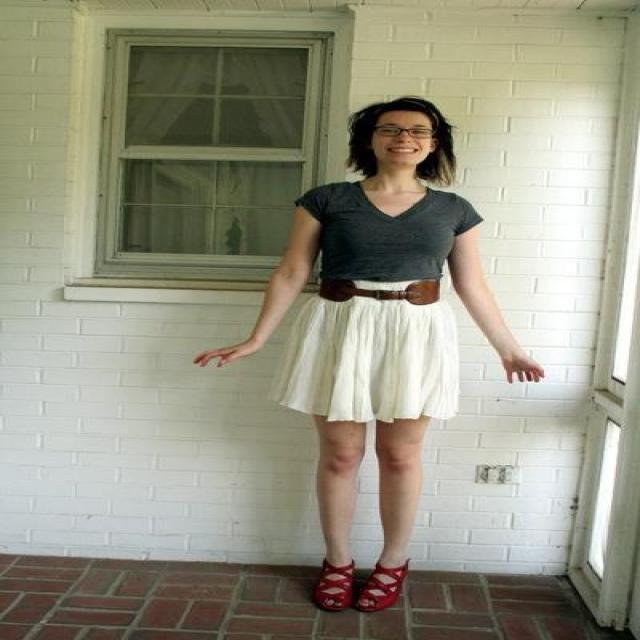shirt: (294, 168, 482, 280)
shoe: (307, 560, 403, 612)
skirt: (280, 280, 458, 422)
